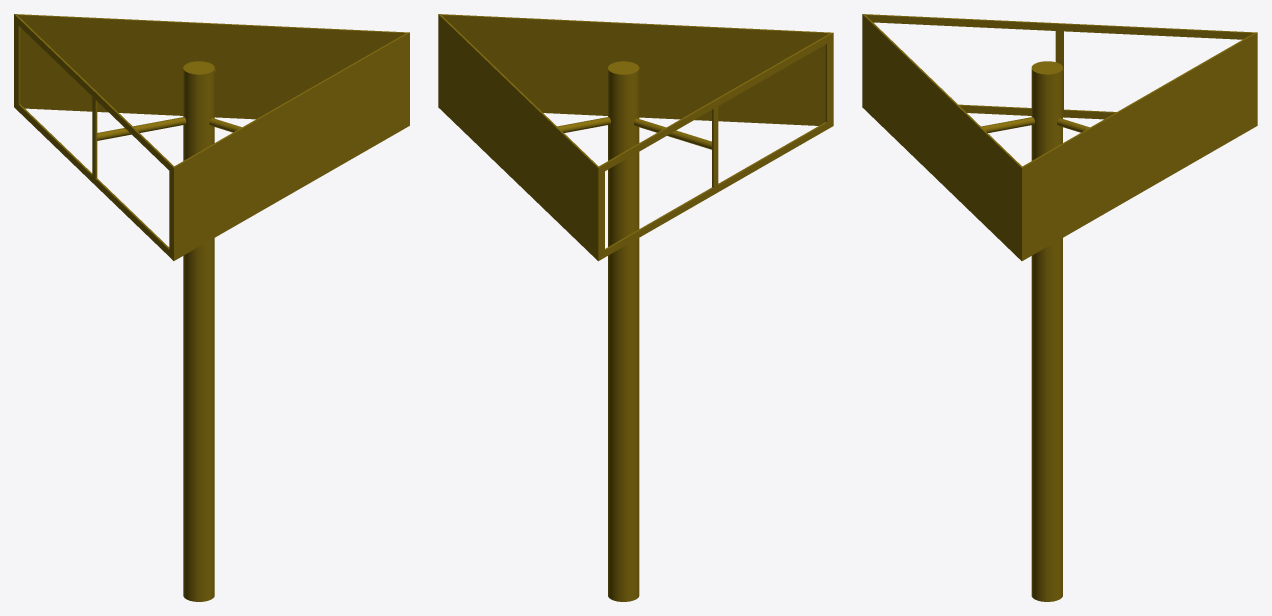
File: billboard.obj
3 views of the same model, side by side, from view 1: azimuth 30°, elevation 25°; view 2: azimuth 150°, elevation 25°; view 3: azimuth 270°, elevation 25° (orthographic).
Visible parts, largest first — view 1: Group_001; view 2: Group_001; view 3: Group_001.
Part boxes in pixels (x1,y1,x2,y2): Group_001: [14, 14, 409, 601]; Group_001: [438, 14, 833, 601]; Group_001: [862, 14, 1257, 601].
Bounding box in the file's own units: 364 × 580 × 394.
